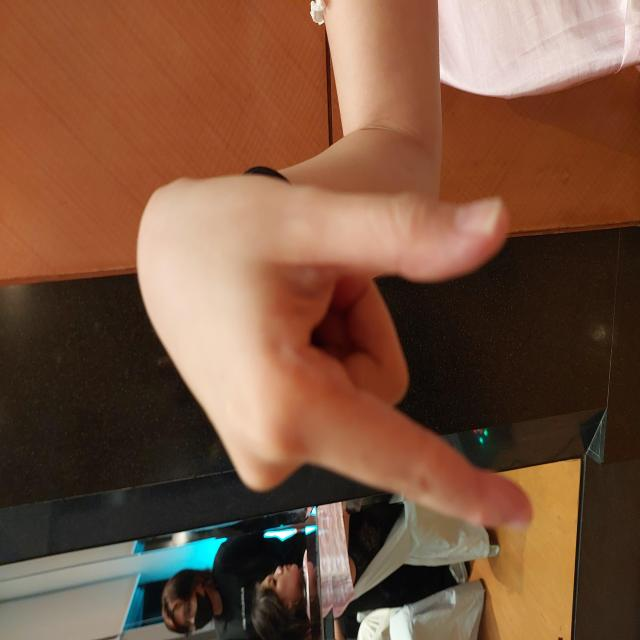Q: (105, 134, 467, 539)
